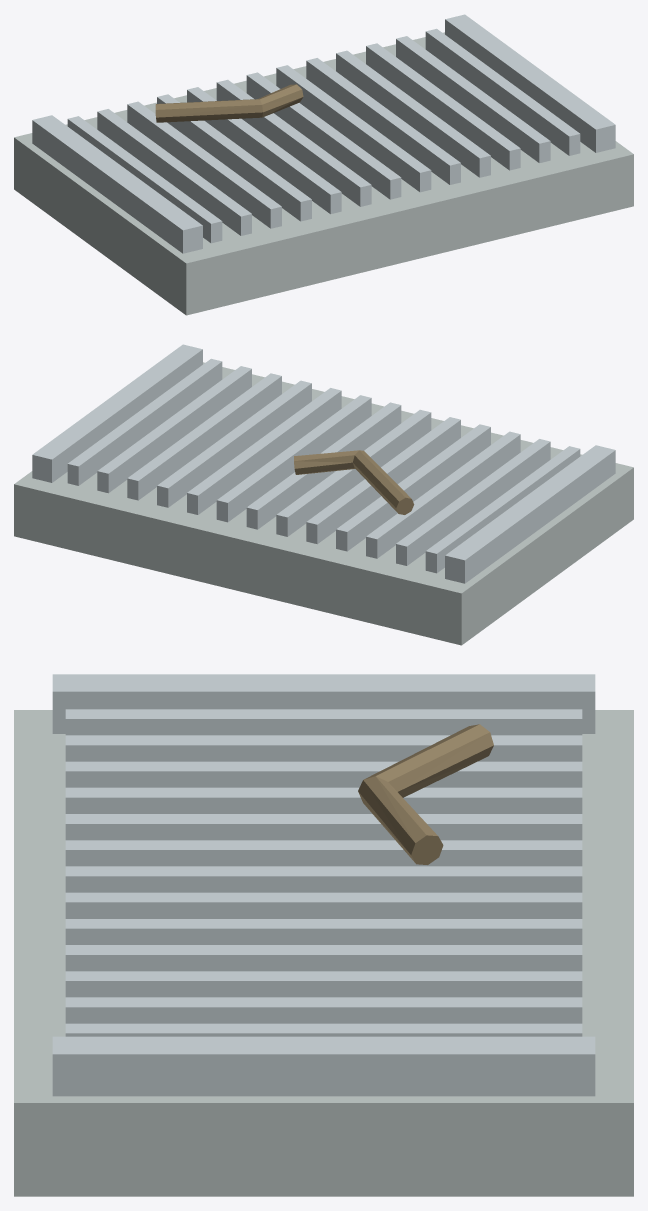
The model's file is AQUA-007.glb.
The picture shows the model from 3 angles, top to bottom: view 1: azimuth 30°, elevation 25°; view 2: azimuth 150°, elevation 25°; view 3: azimuth 270°, elevation 25°; orthographic projection. The views are drawn at different scales.
Parts seen in each view (by area): view 1: AQUA-007; view 2: AQUA-007; view 3: AQUA-007.
Boxes of the visible parts, x1=… form: AQUA-007: x1=14, y1=14, x2=633, y2=315; AQUA-007: x1=14, y1=344, x2=633, y2=645; AQUA-007: x1=14, y1=674, x2=633, y2=1196.
Bounding box in the file's own units: 1.8 × 0.385 × 1.2.
